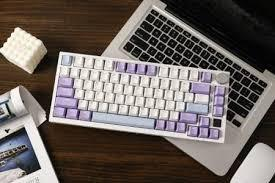keyboard: (48, 50, 229, 143)
